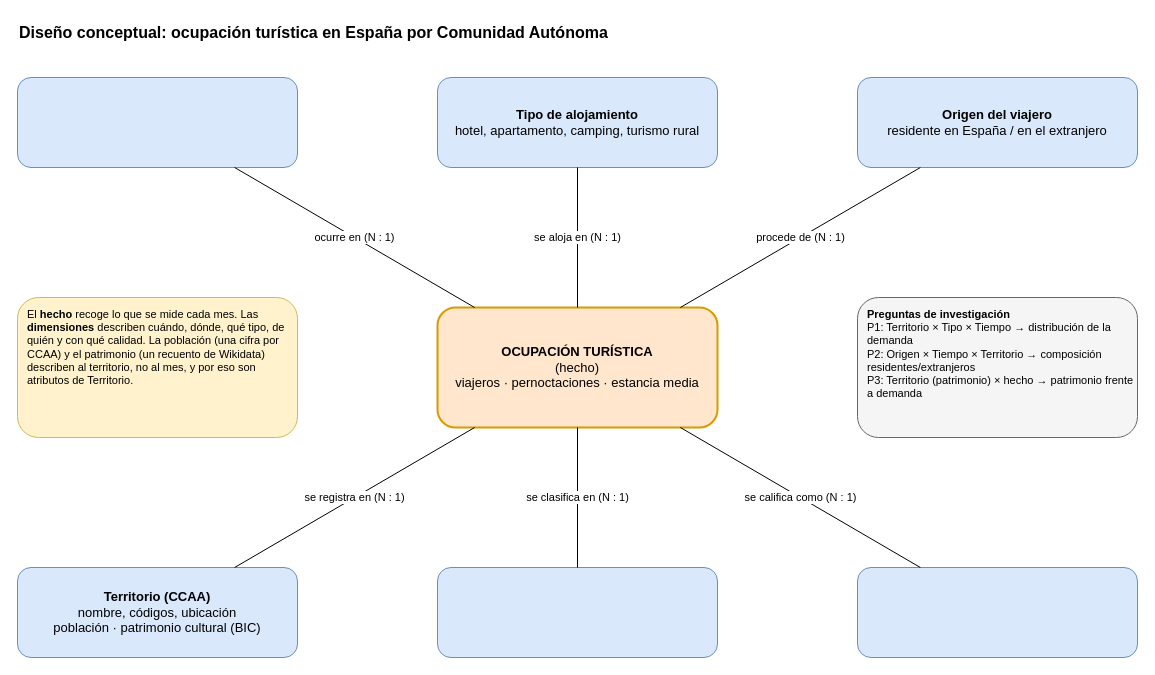
Image size: 1155x675. Some labels were removed from this diagram. The shapes that lost their labels are listed below. From the top down, each one's box as (x1, y1, x2, y2) in pixels, then its label:
(16, 76, 298, 168): Tiempo mes, año, trimestre, temporada
(436, 566, 718, 658): Nivel de estancia corta, media, larga
(856, 566, 1138, 658): Calidad del dato original, imputado, atípico
